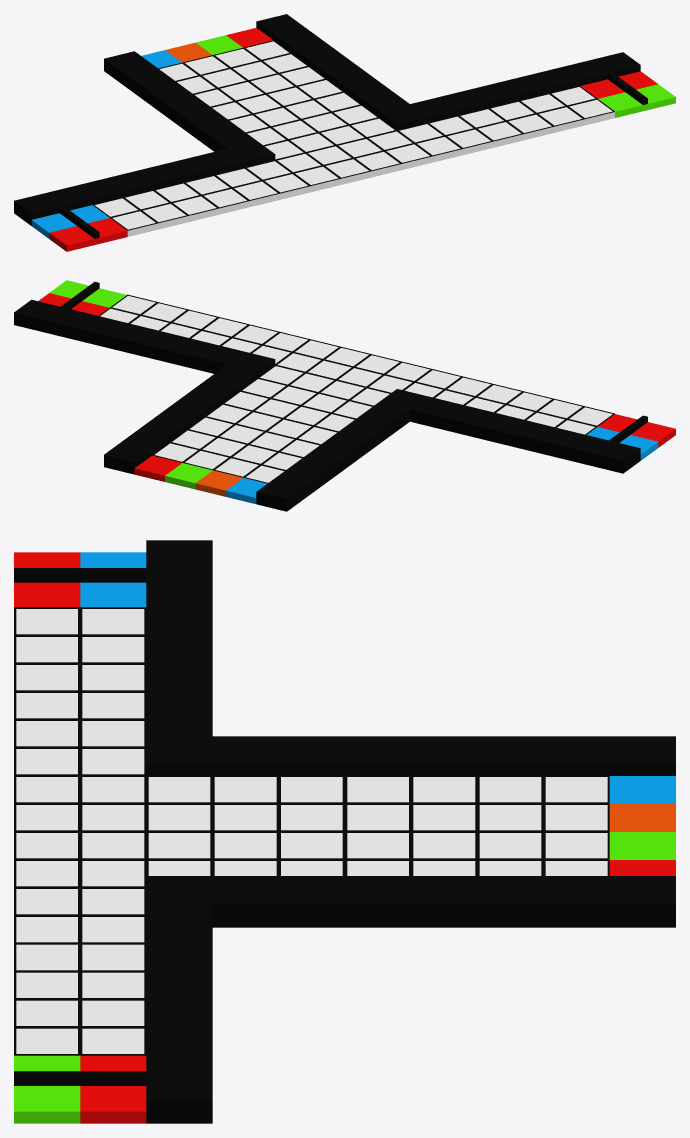
The model's file is arena.dae.
3 renders of one model, top to bottom at view 1: azimuth 30°, elevation 25°; view 2: azimuth 150°, elevation 25°; view 3: azimuth 270°, elevation 25°, orthographic. The views are drawn at different scales.
Parts seen in each view (by area): view 1: node17, node1, node0, node16, node6, node9, node7, node10, node4, node14, node12, node13 (+6 smaller); view 2: node17, node1, node0, node16, node12, node13, node14, node15, node6, node9, node7, node4 (+3 smaller); view 3: node17, node0, node1, node16, node4, node5, node2, node3, node13, node14, node15, node10 (+6 smaller).
Part boxes in pixels (left/top/right/bottom): node17: left=95, top=41, right=614, bottom=236; node1: left=14, top=51, right=275, bottom=225; node0: left=256, top=14, right=640, bottom=130; node16: left=93, top=40, right=614, bottom=230; node6: left=49, top=226, right=97, bottom=251; node9: left=598, top=92, right=645, bottom=117; node7: left=31, top=213, right=76, bottom=238; node10: left=88, top=218, right=127, bottom=244; node4: left=636, top=84, right=675, bottom=110; node14: left=165, top=42, right=212, bottom=62; node12: left=226, top=27, right=272, bottom=47; node13: left=196, top=35, right=242, bottom=54; node17: left=100, top=295, right=612, bottom=482; node1: left=256, top=389, right=640, bottom=511; node0: left=14, top=299, right=275, bottom=474; node16: left=99, top=294, right=614, bottom=483; node12: left=134, top=455, right=181, bottom=481; node13: left=165, top=463, right=212, bottom=489; node14: left=195, top=470, right=243, bottom=496; node15: left=226, top=478, right=266, bottom=503; node6: left=631, top=422, right=675, bottom=447; node9: left=82, top=288, right=126, bottom=307; node7: left=620, top=435, right=658, bottom=460; node4: left=49, top=280, right=88, bottom=298; node17: left=16, top=609, right=607, bottom=1053; node0: left=146, top=876, right=675, bottom=1123; node1: left=146, top=540, right=675, bottom=775; node16: left=14, top=607, right=609, bottom=1055; node4: left=14, top=1086, right=80, bottom=1123; node5: left=80, top=1086, right=146, bottom=1123; node2: left=14, top=1071, right=146, bottom=1085; node3: left=14, top=568, right=146, bottom=582; node13: left=609, top=832, right=675, bottom=859; node14: left=609, top=804, right=675, bottom=831; node15: left=609, top=776, right=675, bottom=803; node10: left=14, top=582, right=80, bottom=607.
Bounding box in the file's own units: 3.05 × 1.52 × 0.06.
